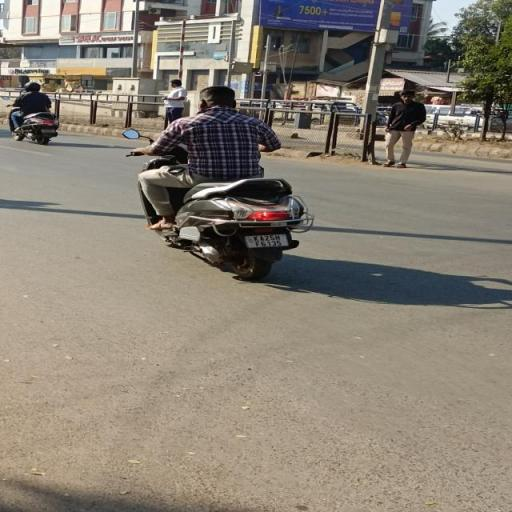bike: (119, 80, 320, 282)
numberplate: (244, 231, 290, 249)
withouthelmet: (200, 87, 236, 110)
